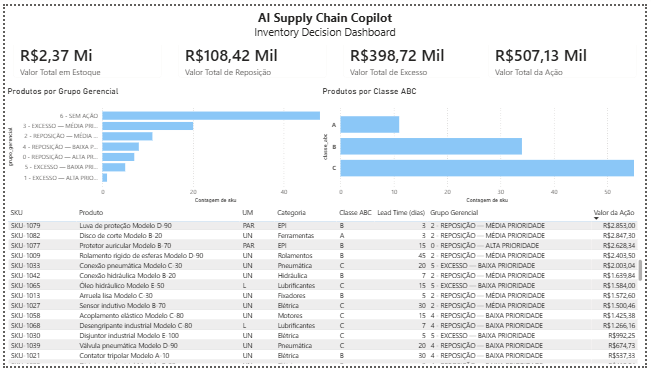

The page's visual inventory and layout, read from the dashboard file:
{"tool":"powerbi","page":{"name":"dashboard","canvas":[1280,720],"ordinal":0},"visuals":[{"type":"cardVisual","fields":{"Data":["Sum(inventory_analysis.valor_estoque)"]},"box":[0,54,330,106],"z":0},{"type":"barChart","title":"Produtos por Grupo Gerencial","fields":{"Category":["inventory_analysis.grupo_gerencial"],"Y":["CountNonNull(inventory_analysis.sku)"]},"box":[0,160,660,238],"z":1000},{"type":"clusteredBarChart","title":"Produtos por Classe ABC","fields":{"Y":["CountNonNull(inventory_analysis.sku)"],"Category":["inventory_analysis.classe_abc"]},"box":[630,160,640,238],"z":2000},{"type":"tableEx","fields":{"Values":["inventory_analysis.sku","inventory_analysis.produto","inventory_analysis.unidade_medida","inventory_analysis.categoria","inventory_analysis.classe_abc","Sum(inventory_analysis.lead_time_dias)","inventory_analysis.grupo_gerencial","Sum(inventory_analysis.valor_acao)"]},"box":[0,398,1280,322],"z":3000},{"type":"cardVisual","fields":{"Data":["Sum(inventory_analysis.valor_reposicao)"]},"box":[330,54,330,106],"z":4000},{"type":"cardVisual","fields":{"Data":["Sum(inventory_analysis.valor_excesso)"]},"box":[660,54,330,106],"z":5000},{"type":"cardVisual","fields":{"Data":["Sum(inventory_analysis.valor_acao)"]},"box":[950,54,330,106],"z":6000},{"type":"textbox","box":[0,0,1280,78],"z":6001}]}

Visuals, with their boxes in screenshot pixels (x1, y1, x2, y2), scaled from the page's 1280x720 canvas onto the 651x372 screenshot:
cardVisual - Sum(inventory_analysis.valor_estoque): x1=0, y1=28, x2=168, y2=83
"Produtos por Grupo Gerencial" barChart: x1=0, y1=83, x2=336, y2=206
"Produtos por Classe ABC" clusteredBarChart: x1=320, y1=83, x2=646, y2=206
tableEx - inventory_analysis.sku x inventory_analysis.produto: x1=0, y1=206, x2=650, y2=371
cardVisual - Sum(inventory_analysis.valor_reposicao): x1=168, y1=28, x2=336, y2=83
cardVisual - Sum(inventory_analysis.valor_excesso): x1=336, y1=28, x2=504, y2=83
cardVisual - Sum(inventory_analysis.valor_acao): x1=483, y1=28, x2=650, y2=83
textbox: x1=0, y1=0, x2=650, y2=40
